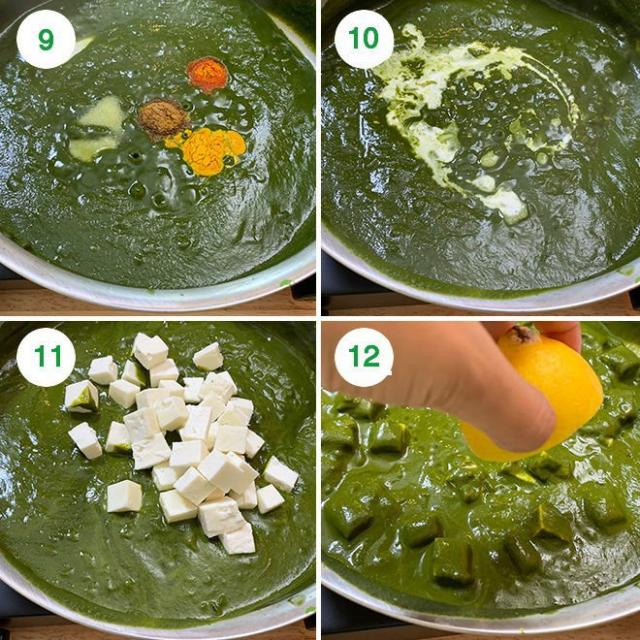Palak Paneer: (322, 319, 640, 640)
